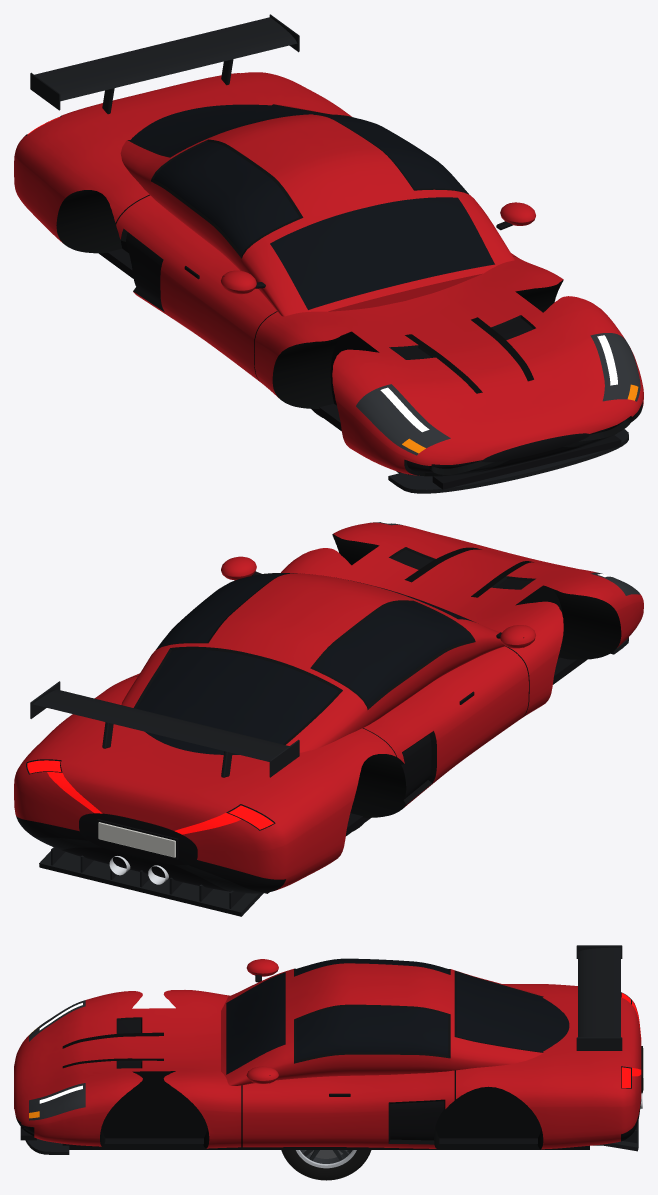
The model's file is sportscar.glb.
3 renders of one model, top to bottom at view 1: azimuth 30°, elevation 25°; view 2: azimuth 150°, elevation 25°; view 3: azimuth 270°, elevation 25°, orthographic. The views are drawn at different scales.
Parts seen in each view (by area): view 1: shell_lod0, wing, details, splitter, mirrorL, mirrorR; view 2: shell_lod0, wing, details, plate, mirrorR, mirrorL; view 3: shell_lod0, wing, details, wheel_lod0, splitter, mirrorR, mirrorL.
Boxes of the visible parts, left/top/right/bottom form: shell_lod0: left=14, top=72, right=643, bottom=476; wing: left=30, top=14, right=299, bottom=114; details: left=99, top=248, right=621, bottom=489; splitter: left=388, top=429, right=628, bottom=493; mirrorL: left=496, top=202, right=535, bottom=230; mirrorR: left=221, top=270, right=265, bottom=294; shell_lod0: left=14, top=522, right=643, bottom=893; wing: left=30, top=681, right=299, bottom=777; details: left=39, top=657, right=587, bottom=916; plate: left=97, top=819, right=178, bottom=859; mirrorR: left=496, top=625, right=535, bottom=648; mirrorL: left=221, top=556, right=261, bottom=580; shell_lod0: left=14, top=958, right=641, bottom=1149; wing: left=576, top=945, right=622, bottom=1050; details: left=20, top=1092, right=642, bottom=1151; wheel_lod0: left=281, top=1150, right=371, bottom=1180; splitter: left=25, top=1138, right=69, bottom=1154; mirrorR: left=246, top=959, right=278, bottom=982; mirrorL: left=246, top=1066, right=278, bottom=1083.
Size of what is drawn, in the model's own units: 2.08 by 1.58 by 4.66.
